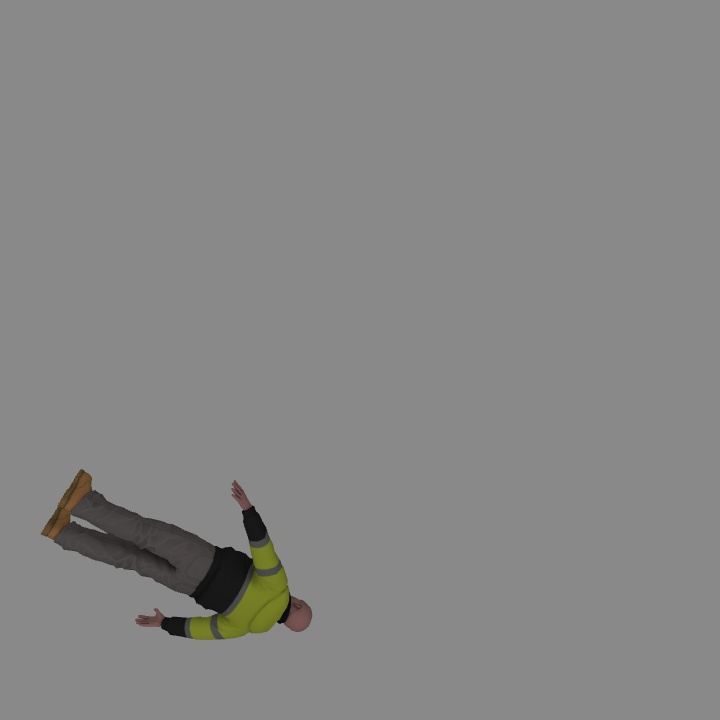victim: (50, 470, 312, 641)
